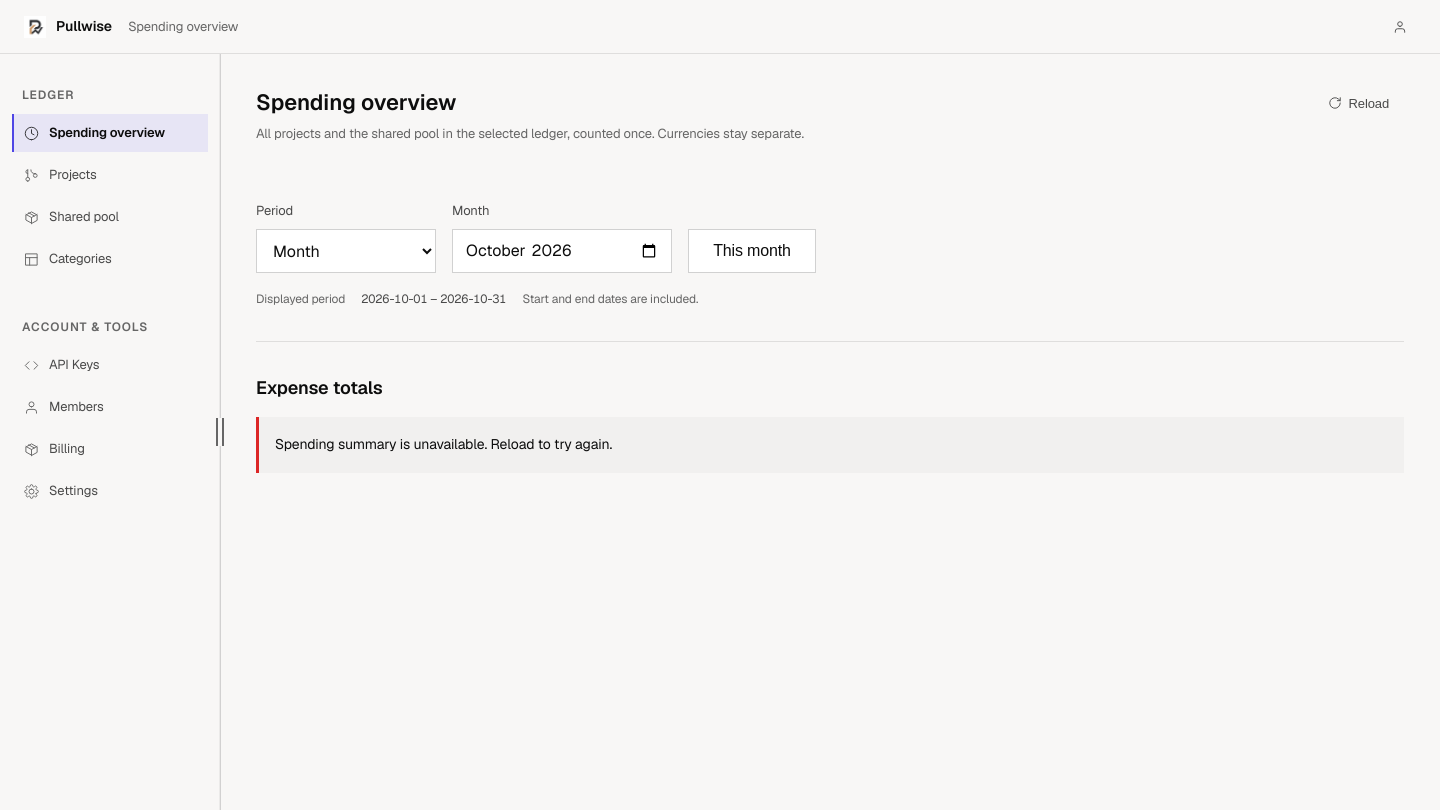
Test: Spending overview › shows unavailable rather than zero on report failure and permits a manual recovery
The width and height of the screenshot is (1440, 810).
Expected: the text "Spending summary is unavailable. Reload to try again." is shown, 256,417 -> 1404,473
What coordinates should you click on to do the following:
click the button "Reload"
I would click on:
 (1358, 103)
Its box is 1313,86 -> 1404,120.
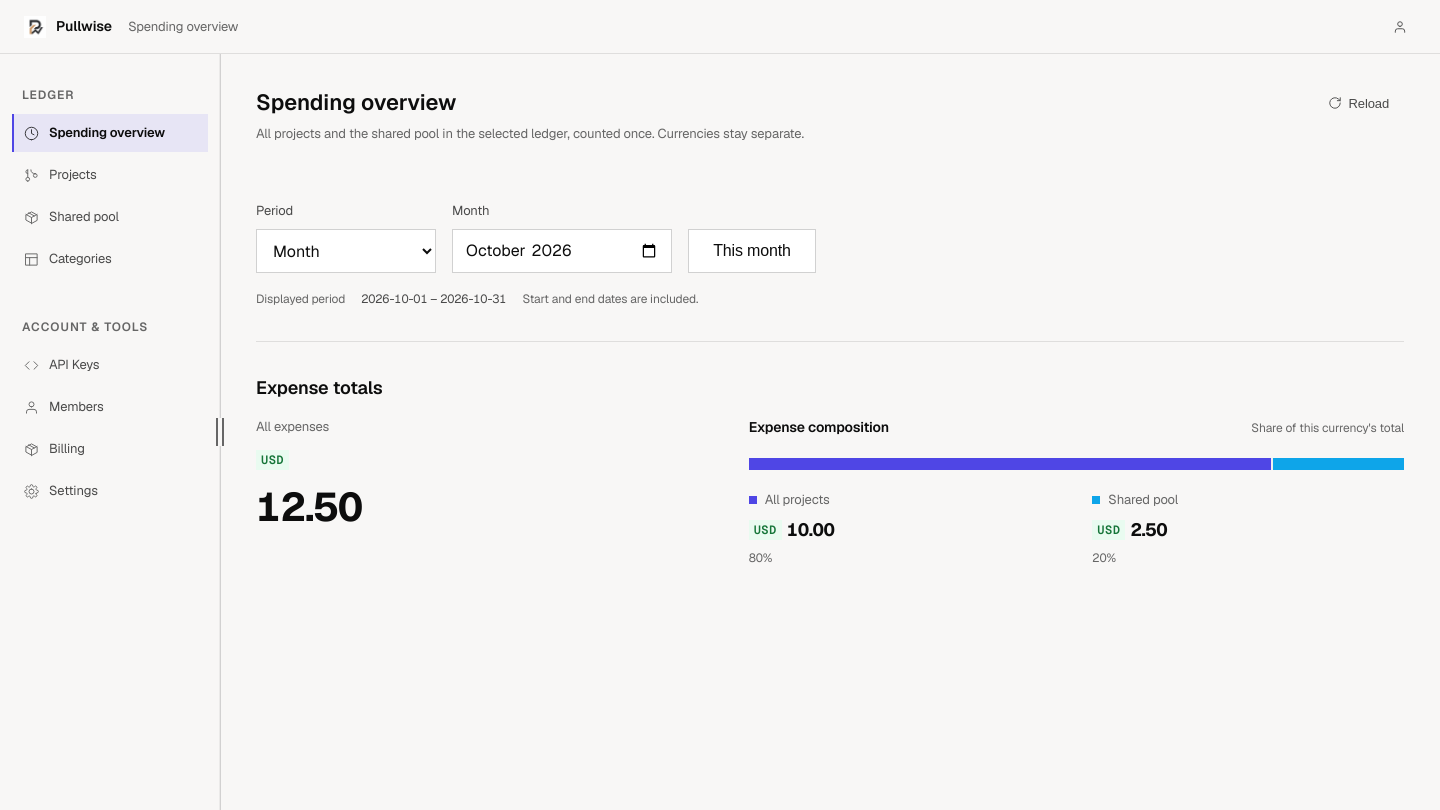
Result: the element with class "financial-value" showing "USD 12.50" is shown at 256,450 -> 362,533
